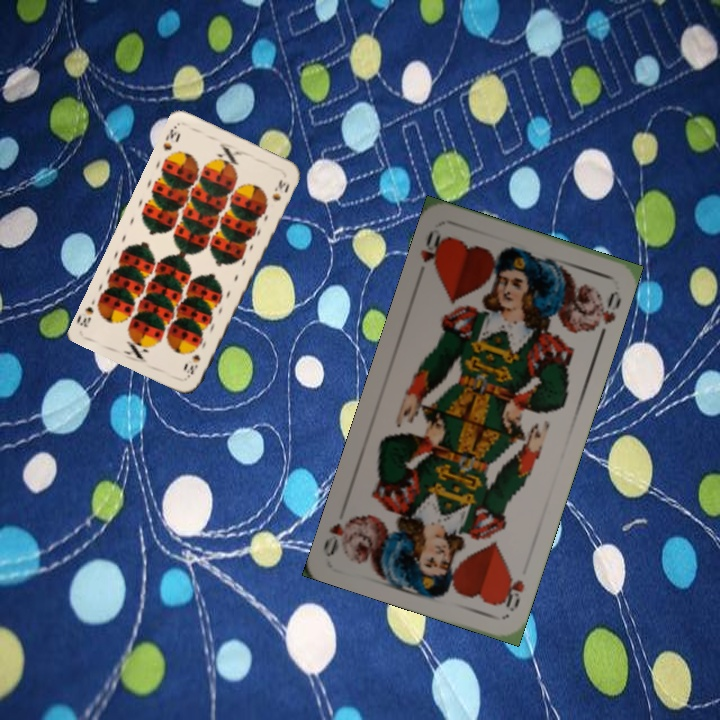HO: (413, 225, 448, 282), (495, 565, 528, 615)
S10: (159, 121, 183, 153), (183, 350, 203, 380)
